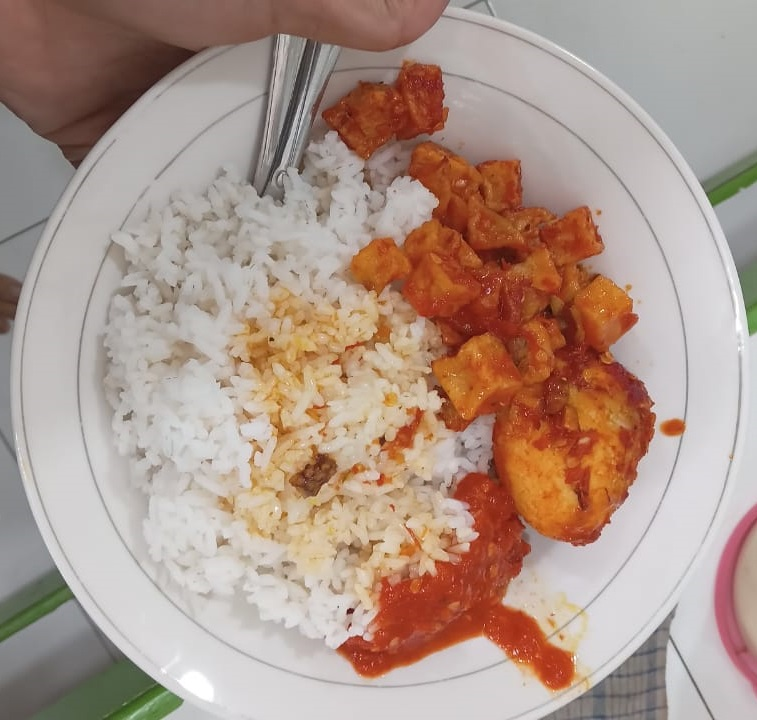Nasi: (102, 196, 352, 608)
Sambal: (388, 572, 540, 698)
Sambel_kentang: (384, 93, 660, 373)
Telur_bulat_sambel: (511, 387, 658, 539)
